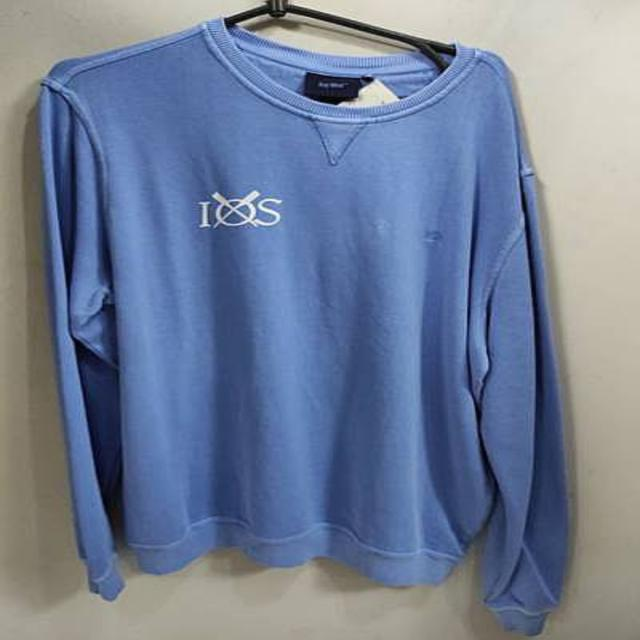SHIRT: (36, 16, 608, 630)
